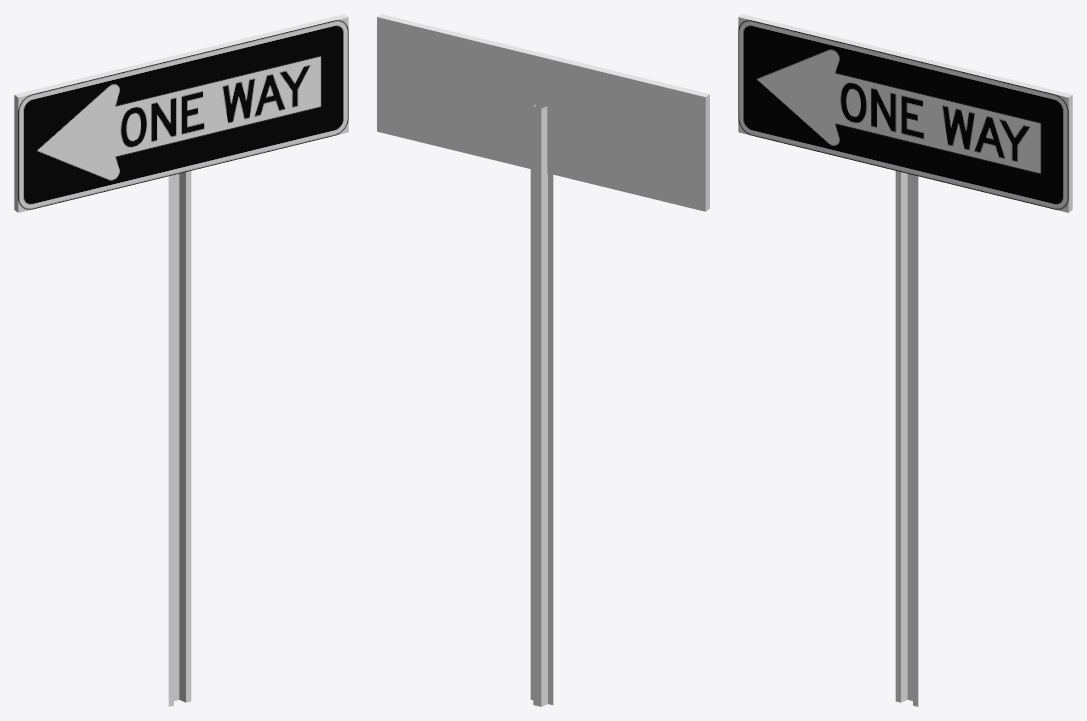
File: one_way_left.dae
3 views of the same model, side by side, from view 1: azimuth 30°, elevation 25°; view 2: azimuth 150°, elevation 25°; view 3: azimuth 330°, elevation 25° (orthographic).
Visible parts, largest first — view 1: Cube, Box001_001; view 2: Cube, Box001_001; view 3: Cube, Box001_001.
Part boxes in pixels (bbox=[...]): Cube: bbox=[14, 14, 348, 212]; Box001_001: bbox=[168, 171, 191, 706]; Cube: bbox=[377, 14, 709, 211]; Box001_001: bbox=[530, 104, 553, 706]; Cube: bbox=[738, 14, 1072, 212]; Box001_001: bbox=[895, 171, 918, 706].
Bounding box in the file's own units: 0.9 × 0.0391 × 1.69.
2 materials, 1 textured.
